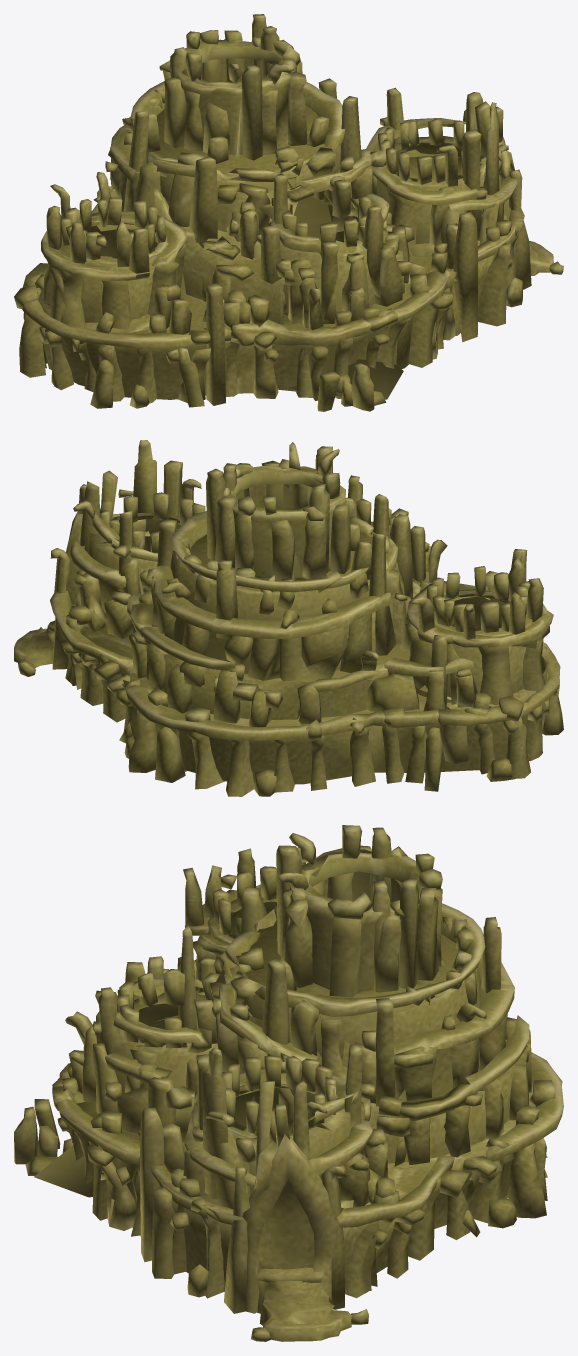
Rendered from site_labyrinth.glb.
3 views of the same model, one above another, from view 1: azimuth 30°, elevation 25°; view 2: azimuth 150°, elevation 25°; view 3: azimuth 270°, elevation 25° (orthographic). The views are drawn at different scales.
Bounding box in the file's own units: 1 × 0.5081 × 0.776.
1 material, 1 textured.
